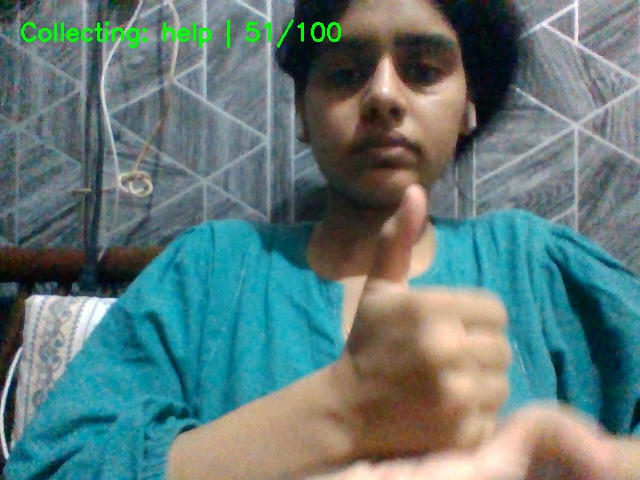help: (283, 178, 583, 480)
